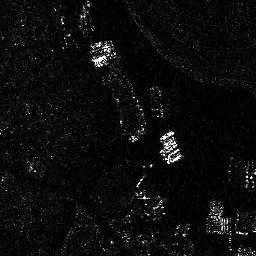ship: (148, 84, 164, 119)
